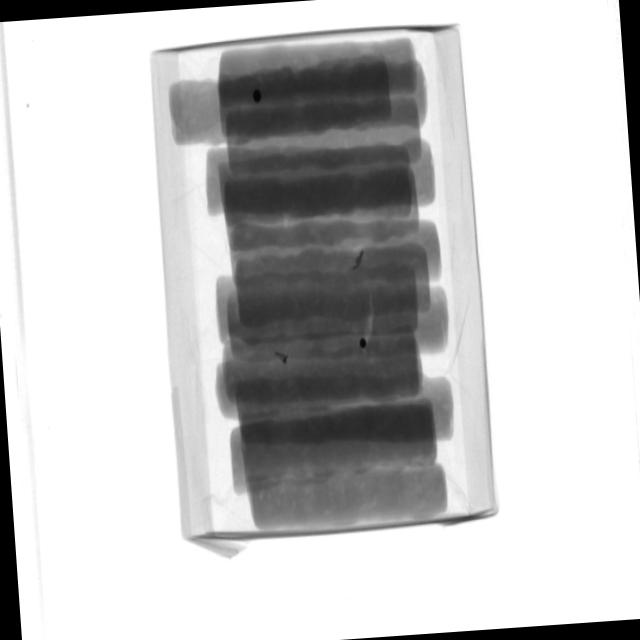ym: (352, 251, 365, 270), (275, 351, 289, 365), (254, 90, 263, 105), (360, 338, 367, 348)
